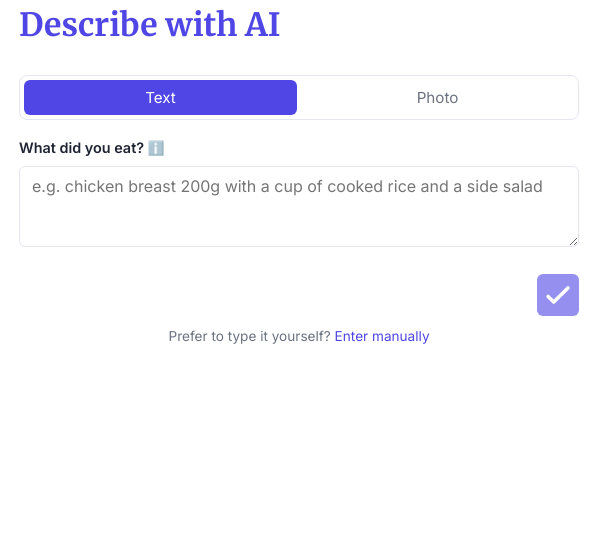
Test: AiEntryPage › shows the refine box after a FAILED estimate (not just a successful one)
The image size is (599, 536).
Type "something odd" into the text box labelled "What did you eat? ℹ️".
click(299, 206); type("something odd")  # box 19,166 -> 579,247
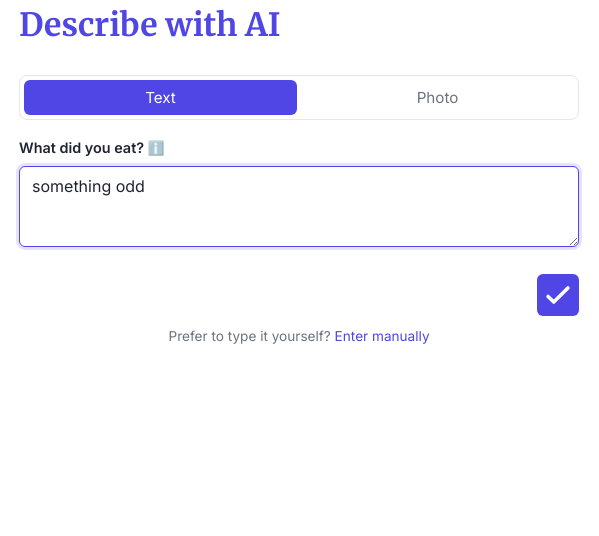
Click the button named "Estimate".
click(558, 295)  # box 537,274 -> 579,316
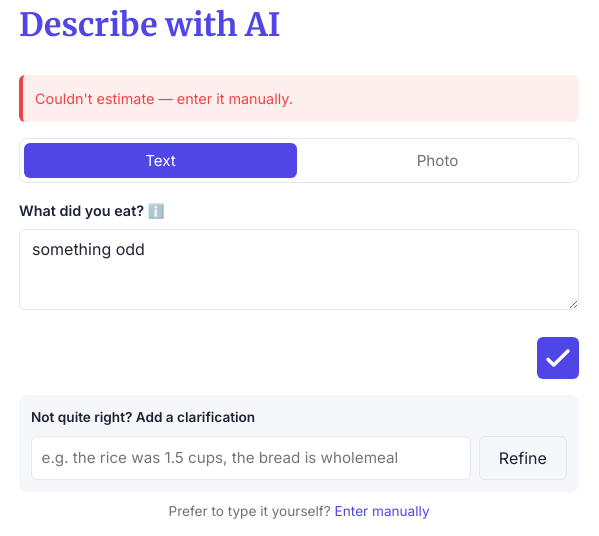
Expected: the message shows "enter it manually", 35,90 -> 293,107
Expected: the field labelled "Not quite right? Add a clarification" is shown, 31,436 -> 471,480
Expected: the button "Refine" is shown, 479,436 -> 567,480
